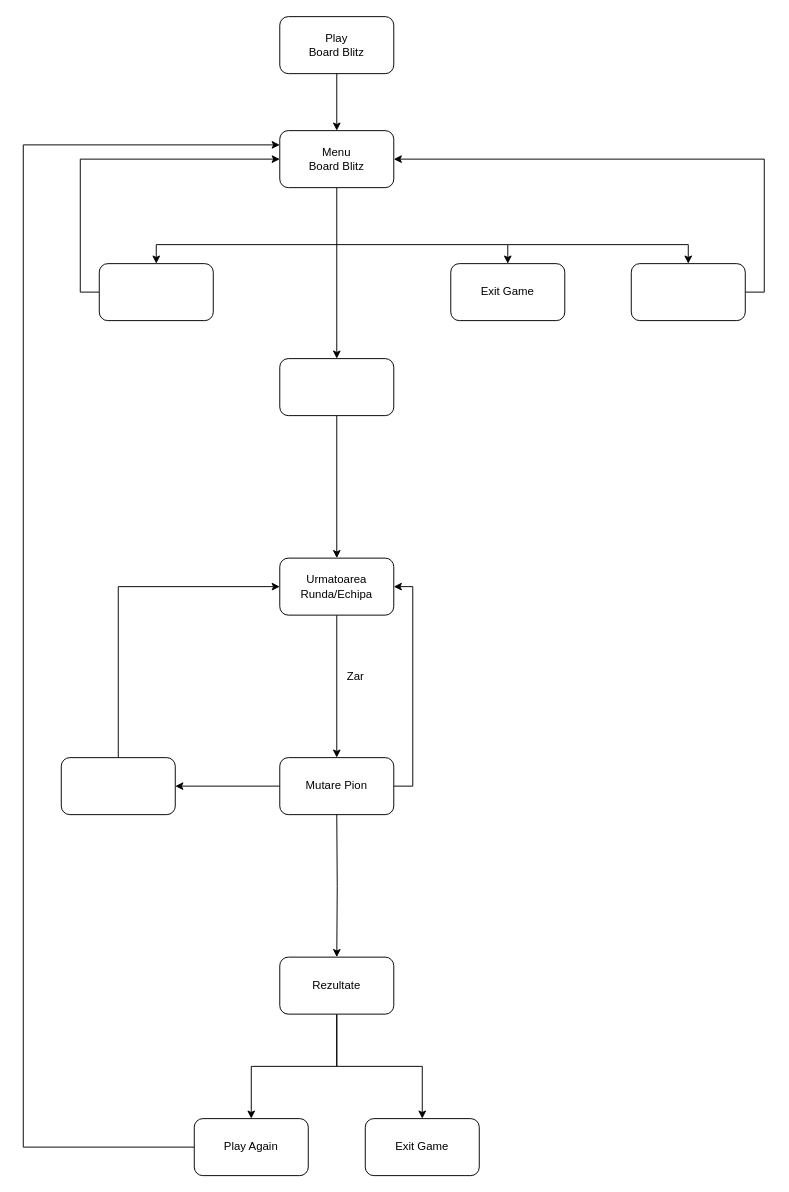
Some shapes in this 789 by 1192 pixel diagram are drawn without their labels. The shapes that lost their labels are listed below. From the top down, each one's centre as x and y in pixels, then its label:
At (x=155, y=292): "Instructiuni".
At (x=687, y=292): "Configurare Optiuni".
At (x=336, y=387): "Play".
At (x=117, y=786): "Eliminare Pion".
